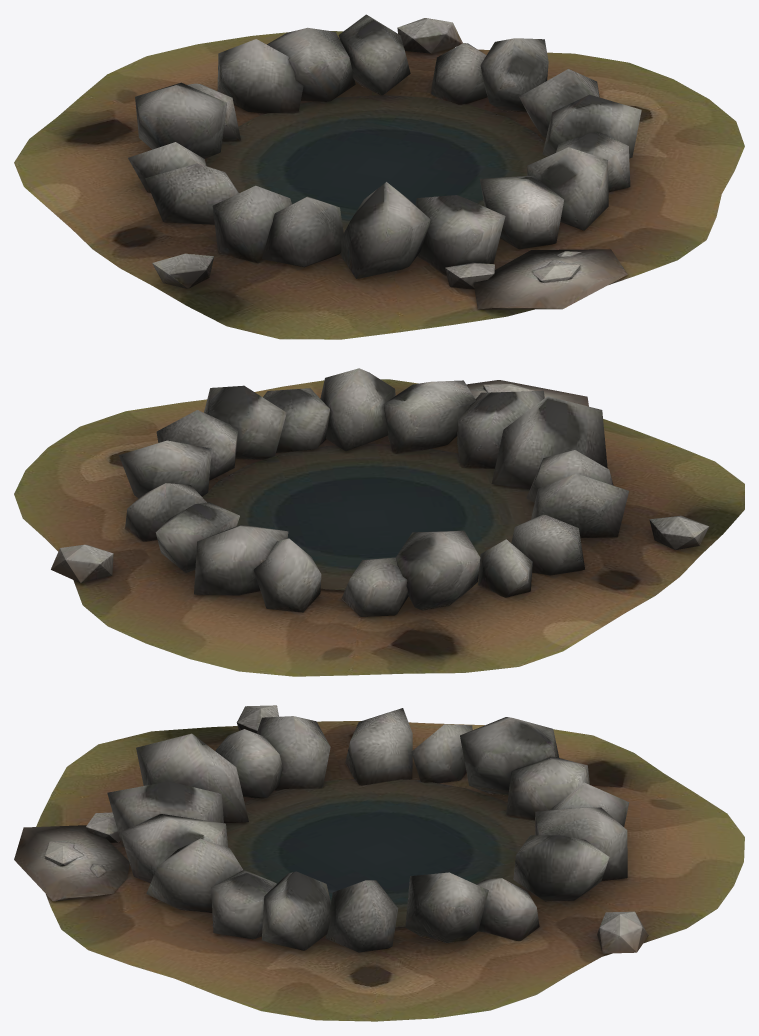
File: dug_well_shaft.gltf
The picture shows the model from 3 angles, top to bottom: view 1: azimuth 30°, elevation 25°; view 2: azimuth 150°, elevation 25°; view 3: azimuth 270°, elevation 25°; orthographic projection.
Parts seen in each view (by area): view 1: dug_well_shaft; view 2: dug_well_shaft; view 3: dug_well_shaft.
Boxes of the visible parts, x1,y1,x2,y2 form: dug_well_shaft: (14,14,744,339); dug_well_shaft: (14,368,744,676); dug_well_shaft: (14,705,744,1021).
Size of the model in its own units: 2.24 by 0.3279 by 2.3.
3 materials, 3 textured.
